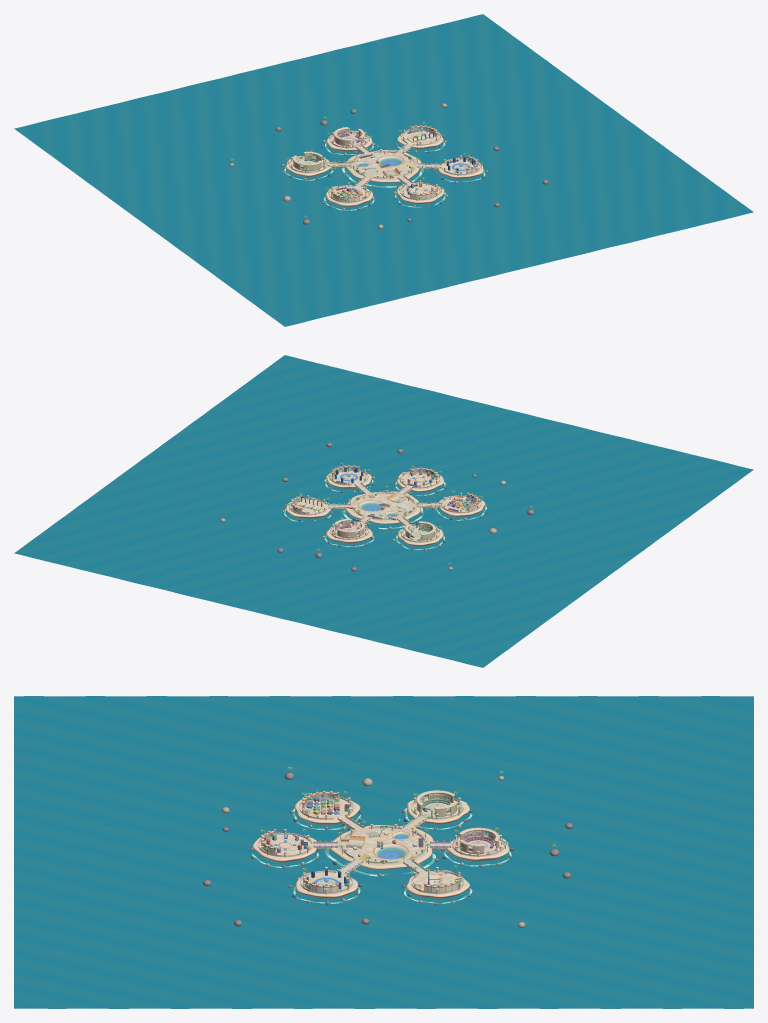
File: duderworld-archipelago-v0-5-1.glb
The picture shows the model from 3 angles, top to bottom: view 1: azimuth 30°, elevation 25°; view 2: azimuth 150°, elevation 25°; view 3: azimuth 270°, elevation 25°; orthographic projection. The views are drawn at different scales.
Parts seen in each view (by area): view 1: ocean / solid, skate / solid, friends / solid, voice / solid, arcade / solid, physics / solid, sessions / solid, network / solid, bridges / solid; view 2: ocean / solid, skate / solid, voice / solid, arcade / solid, friends / solid, physics / solid, sessions / solid, network / solid, bridges / solid; view 3: ocean / solid, skate / solid, physics / solid, voice / solid, friends / solid, arcade / solid, sessions / solid, network / solid, bridges / solid, offshore-rocks / solid.
Boxes of the visible parts, x1,y1,x2,y2 form: ocean / solid: (14,14,753,326); skate / solid: (345,145,423,187); friends / solid: (281,150,335,180); voice / solid: (321,126,375,155); arcade / solid: (393,177,447,206); physics / solid: (321,180,374,210); sessions / solid: (395,122,446,152); network / solid: (435,153,487,183); bridges / solid: (328,142,441,187); ocean / solid: (14,355,753,667); skate / solid: (343,485,422,529); voice / solid: (322,517,373,547); arcade / solid: (394,465,446,496); friends / solid: (392,521,445,551); physics / solid: (431,490,487,519); sessions / solid: (282,493,333,521); network / solid: (324,462,374,492); bridges / solid: (328,482,440,527); ocean / solid: (14,696,753,1008); skate / solid: (330,818,444,876); physics / solid: (289,791,361,830); voice / solid: (441,827,514,867); friends / solid: (401,790,472,830); arcade / solid: (250,829,319,868); sessions / solid: (402,865,470,905); network / solid: (288,867,361,904); bridges / solid: (313,815,451,874); offshore-rocks / solid: (203,767,572,927).
Bounding box in the file's own units: 360 × 9.98 × 360.
